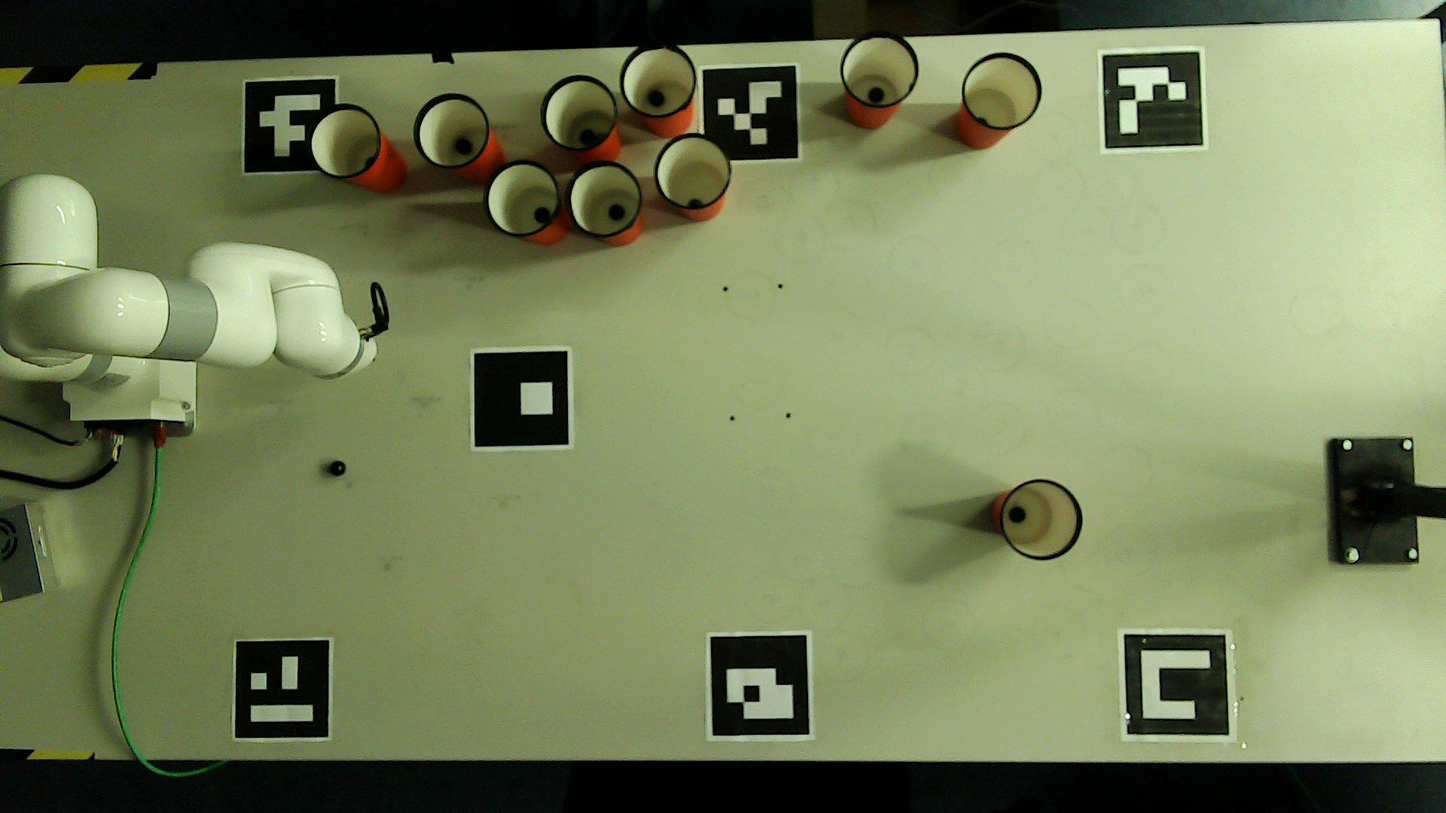ball: (646, 89, 666, 106), (455, 138, 472, 155), (868, 87, 885, 103), (534, 207, 550, 224), (1010, 507, 1026, 523), (330, 461, 346, 476), (609, 205, 624, 220), (580, 130, 596, 144)
cup: (1002, 480, 1082, 560), (963, 53, 1042, 128), (840, 34, 919, 107), (655, 134, 730, 209), (486, 162, 560, 237), (415, 94, 489, 168), (542, 76, 616, 150), (568, 162, 642, 236), (308, 106, 380, 179), (621, 47, 695, 117)
